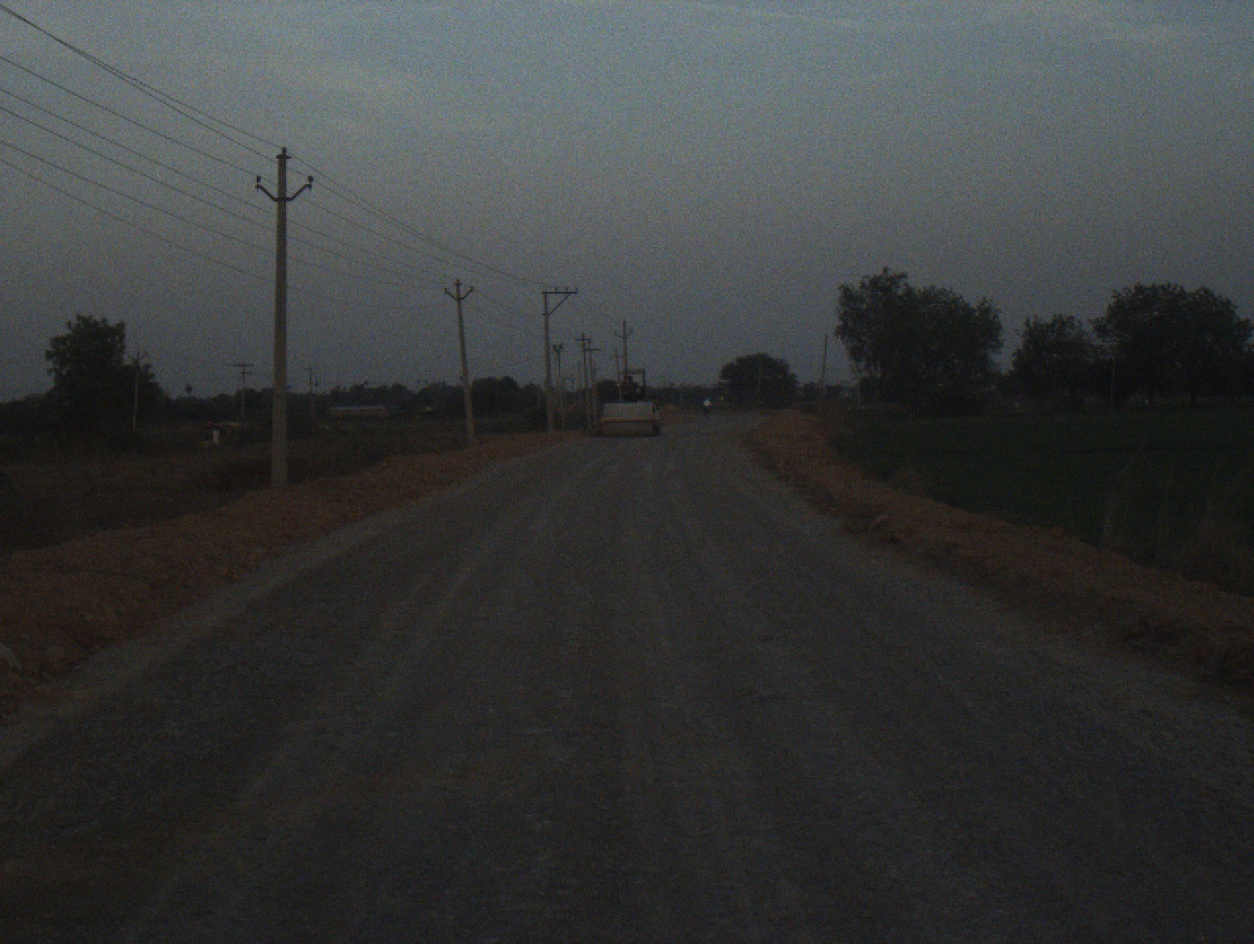vehicle fallback: (592, 363, 662, 444)
